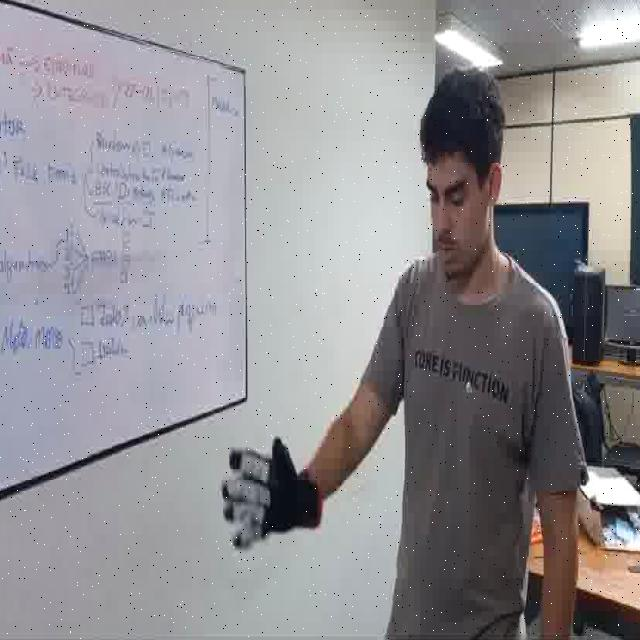Gloves: (220, 437, 322, 548)
